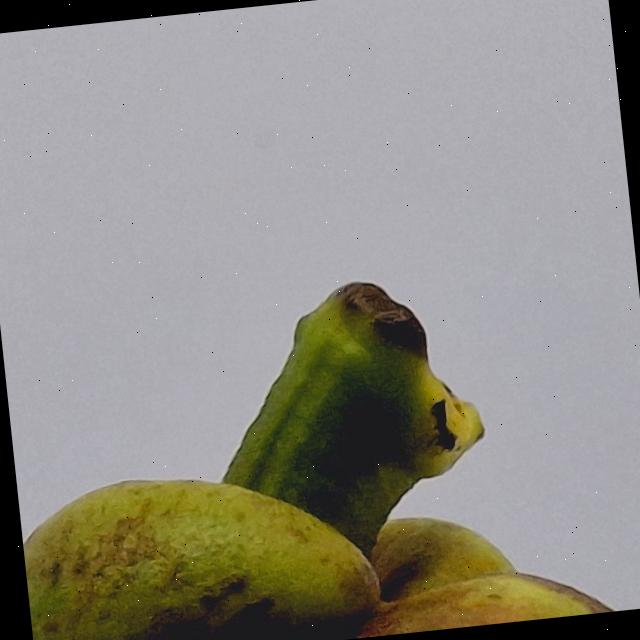mangosteen: (0, 122, 640, 640)
